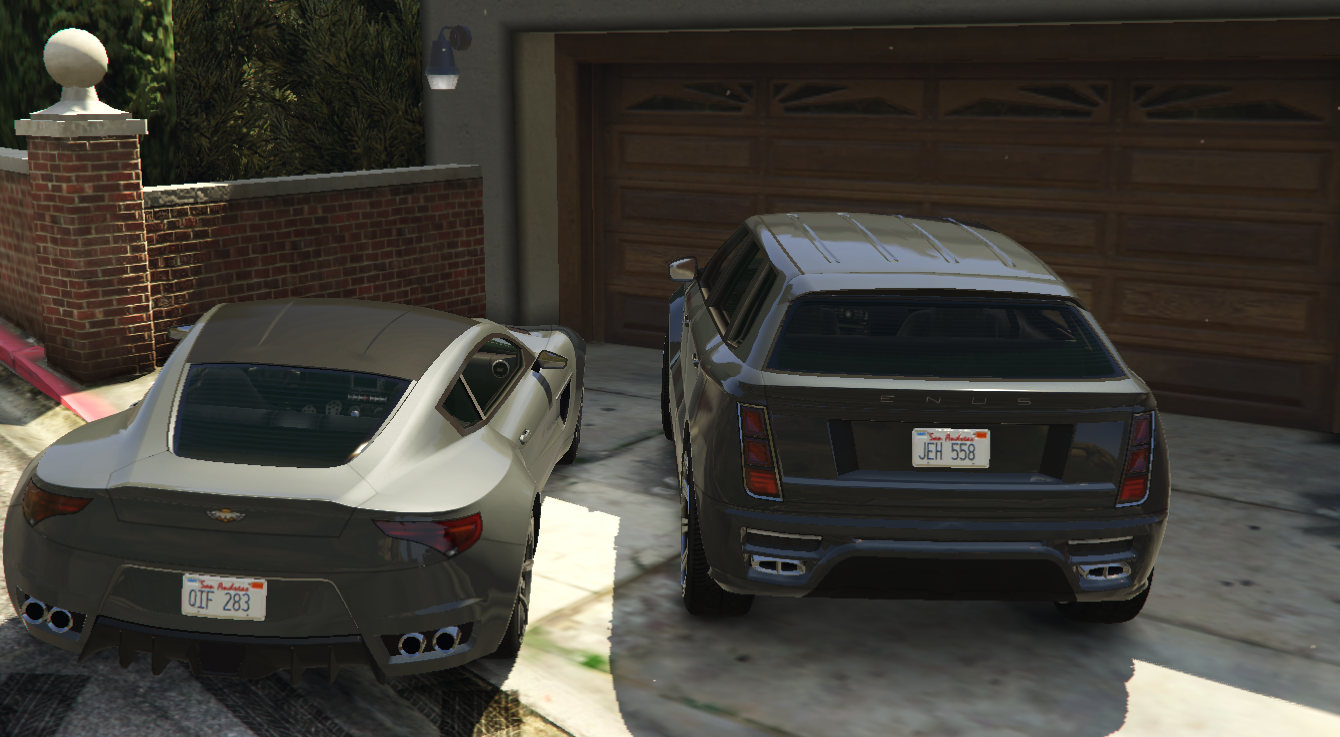license plate: (176, 567, 269, 628), (908, 421, 997, 473)
